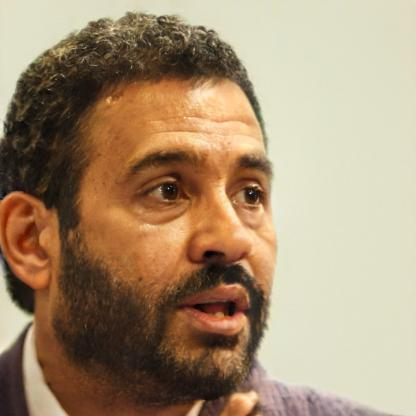eyeee: (135, 170, 195, 206), (230, 171, 268, 210)
mouthhz: (177, 280, 252, 336)
nosebb: (185, 189, 255, 264)
